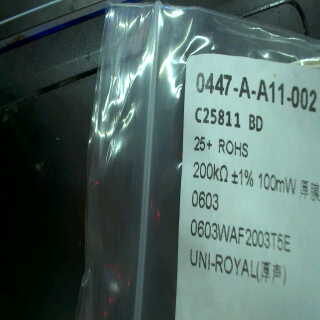200kR: (191, 158, 232, 180)
